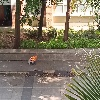fire: (30, 55, 37, 61)
